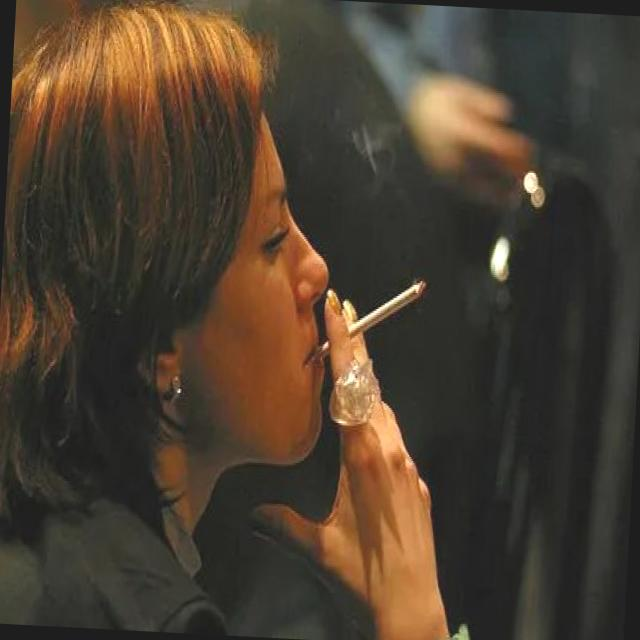smoke: (308, 272, 432, 372)
